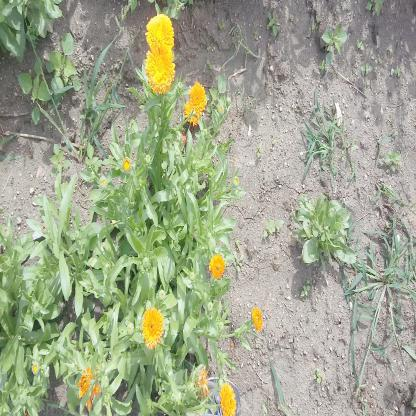marigold: (145, 51, 176, 89), (145, 13, 175, 48), (141, 306, 163, 345), (219, 381, 238, 415), (191, 80, 207, 112), (185, 102, 200, 125), (211, 256, 226, 278)
